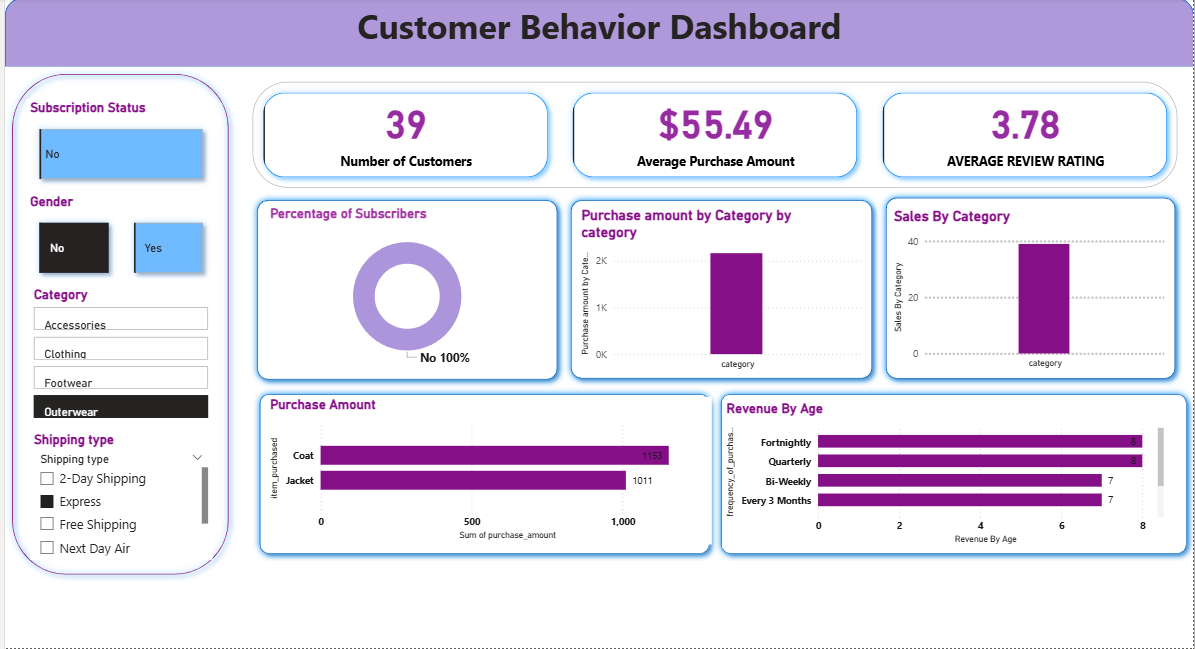

Layout of this report page (visuals, bound fields, positions):
{"tool":"powerbi","page":{"name":"Page 1","canvas":[1500,820],"ordinal":0},"visuals":[{"type":"shape","box":[312,490,586,220],"z":0},{"type":"shape","box":[0,0,1500.3,86.8],"z":1000},{"type":"cardVisual","fields":{"Data":["customer_data.Number of Customers","customer_data.Average Purchase Amount","customer_data.AVERAGE REVIEW RATING"]},"box":[308.3,101.7,1178.3,143.3],"z":2000},{"type":"textbox","box":[0,0,1500.3,86.8],"z":3000},{"type":"shape","box":[308.5,245.4,396.9,244.6],"z":4000},{"type":"donutChart","title":"Percentage of Subscribers ","fields":{"Category":["customer_data.subscription_status"],"Y":["CountNonNull(customer_data.customer_id)"]},"box":[330,261.2,356.2,208.8],"z":5000},{"type":"shape","box":[705,246.7,398.3,243.3],"z":6000},{"type":"shape","box":[1103.3,243.3,383.3,246.7],"z":7000},{"type":"clusteredColumnChart","fields":{"Y":["Sum(customer_data.purchase_amount)"],"Category":["customer_data.category"]},"box":[723.3,263.3,363.3,210],"z":8000},{"type":"clusteredColumnChart","title":"Sales By Category","fields":{"Category":["customer_data.category"],"Y":["CountNonNull(customer_data.customer_id)"]},"box":[1116.7,265,351.7,207],"z":9000},{"type":"shape","box":[0,86.2,291.2,650],"z":10000},{"type":"advancedSlicerVisual","title":"Subscription Status","fields":{"Values":["customer_data.subscription_status"]},"box":[26.2,127.5,240,118.8],"z":11000},{"type":"advancedSlicerVisual","title":"Gender","fields":{"Values":["customer_data.subscription_status"]},"box":[26.2,246.2,240,118.8],"z":12000},{"type":"advancedSlicerVisual","fields":{"Values":["customer_data.category"]},"box":[31.6,364.4,230.3,172],"z":13000},{"type":"slicer","title":"Shipping type","fields":{"Values":["customer_data.shipping_type"]},"box":[31.2,547.5,230,161.2],"z":14000},{"type":"clusteredBarChart","title":"Purchase Amount","fields":{"Y":["Sum(customer_data.purchase_amount)"],"Category":["customer_data.item_purchased"]},"box":[330,504,562,186],"z":15000},{"type":"shape","box":[894,490,606,220],"z":16000},{"type":"clusteredBarChart","title":"Revenue By Age","fields":{"Y":["CountNonNull(customer_data.customer_id)"],"Category":["customer_data.frequency_of_purchases"]},"box":[906,508,562,186],"z":17000}]}

Visuals, with their boxes in screenshot pixels (x1, y1, x2, y2), scaled from the page's 1500x820 canvas onto the 1195x649 screenshot:
shape: rect(249, 388, 715, 562)
shape: rect(0, 0, 1194, 69)
cardVisual - customer_data.Number of Customers x customer_data.Average Purchase Amount: rect(246, 80, 1184, 194)
textbox: rect(0, 0, 1194, 69)
shape: rect(246, 194, 562, 388)
"Percentage of Subscribers " donutChart: rect(263, 207, 547, 372)
shape: rect(562, 195, 879, 388)
shape: rect(879, 193, 1184, 388)
clusteredColumnChart - Sum(customer_data.purchase_amount) x customer_data.category: rect(576, 208, 866, 375)
"Sales By Category" clusteredColumnChart: rect(890, 210, 1170, 374)
shape: rect(0, 68, 232, 583)
"Subscription Status" advancedSlicerVisual: rect(21, 101, 212, 195)
"Gender" advancedSlicerVisual: rect(21, 195, 212, 289)
advancedSlicerVisual - customer_data.category: rect(25, 288, 209, 425)
"Shipping type" slicer: rect(25, 433, 208, 561)
"Purchase Amount" clusteredBarChart: rect(263, 399, 711, 546)
shape: rect(712, 388, 1194, 562)
"Revenue By Age" clusteredBarChart: rect(722, 402, 1170, 549)
